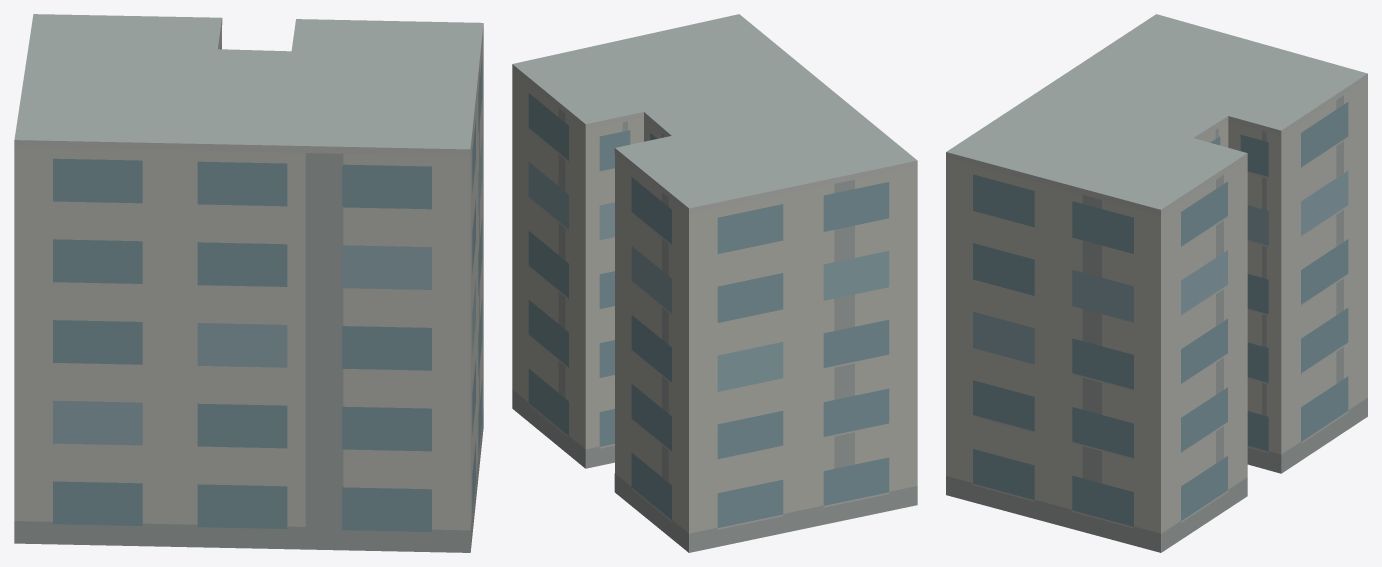
Rendered from survey-upis-32887668.glb.
3 renders of one model, left to right at view 1: azimuth 30°, elevation 25°; view 2: azimuth 150°, elevation 25°; view 3: azimuth 270°, elevation 25°, orthographic. The views are drawn at different scales.
Parts seen in each view (by area): view 1: survey-upis-32887668.tmp; view 2: survey-upis-32887668.tmp; view 3: survey-upis-32887668.tmp.
Boxes of the visible parts, x1,y1,x2,y2 form: survey-upis-32887668.tmp: [14, 14, 483, 552]; survey-upis-32887668.tmp: [512, 14, 917, 552]; survey-upis-32887668.tmp: [946, 14, 1367, 552].
Size of the model in its own units: 17.27 by 14.1 by 15.72.
